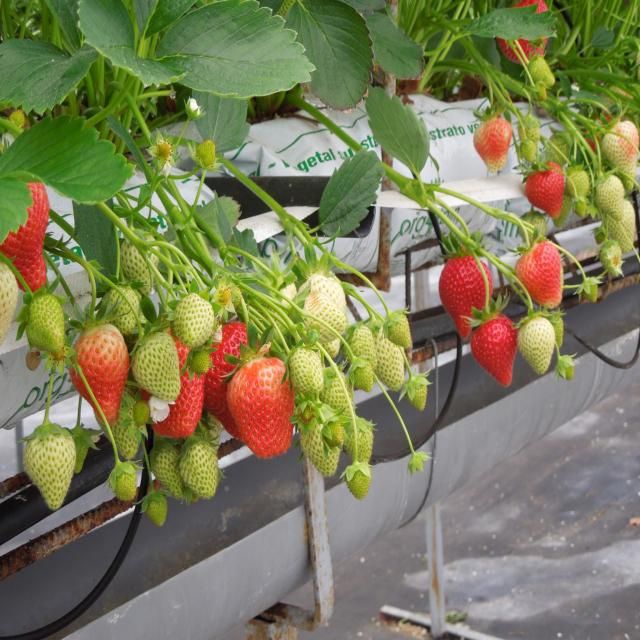immature_strawberry: (21, 424, 75, 508), (289, 267, 352, 338), (133, 330, 191, 406), (94, 275, 154, 335), (117, 227, 168, 295), (144, 438, 190, 508), (515, 317, 563, 382), (180, 441, 232, 500), (25, 295, 71, 361), (598, 112, 640, 182), (173, 286, 216, 350), (372, 321, 411, 389), (305, 412, 343, 481), (282, 346, 334, 392), (599, 166, 629, 222), (339, 460, 375, 502), (347, 418, 379, 465), (515, 103, 544, 151), (107, 466, 139, 508), (407, 374, 434, 418), (528, 58, 561, 92), (143, 494, 172, 528)
ripe_strawberry: (197, 316, 274, 438), (438, 250, 498, 341), (467, 312, 521, 393), (515, 235, 565, 307), (522, 158, 572, 220)
